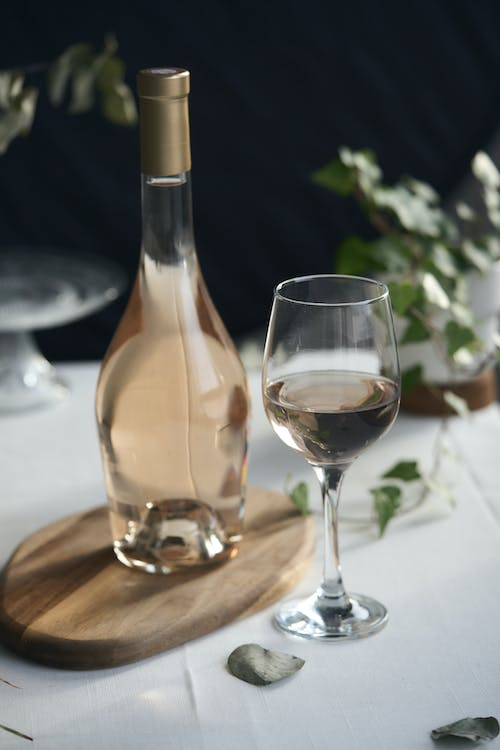alcohol: (92, 66, 252, 576), (259, 272, 403, 643)
